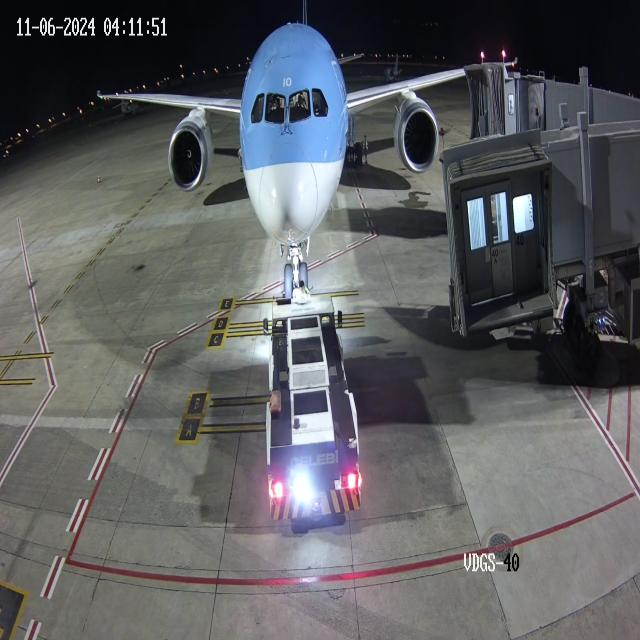bridge: (491, 56, 546, 146)
plane: (88, 5, 444, 301)
window: (248, 78, 337, 128)
